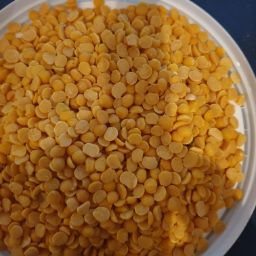Pigeon Pea(toor daal): (18, 4, 247, 253), (112, 40, 228, 200), (110, 113, 217, 249), (40, 68, 144, 197), (4, 131, 91, 256), (6, 31, 203, 83)
